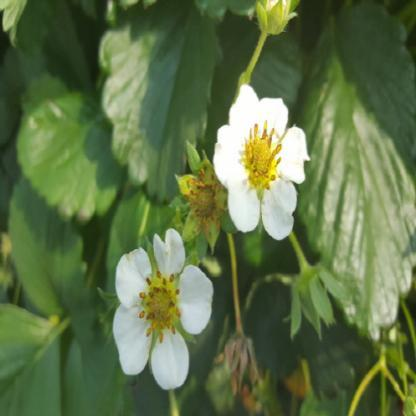Strawberry_Blossom_Blight: (136, 268, 184, 347), (242, 118, 286, 204), (182, 165, 226, 234)
